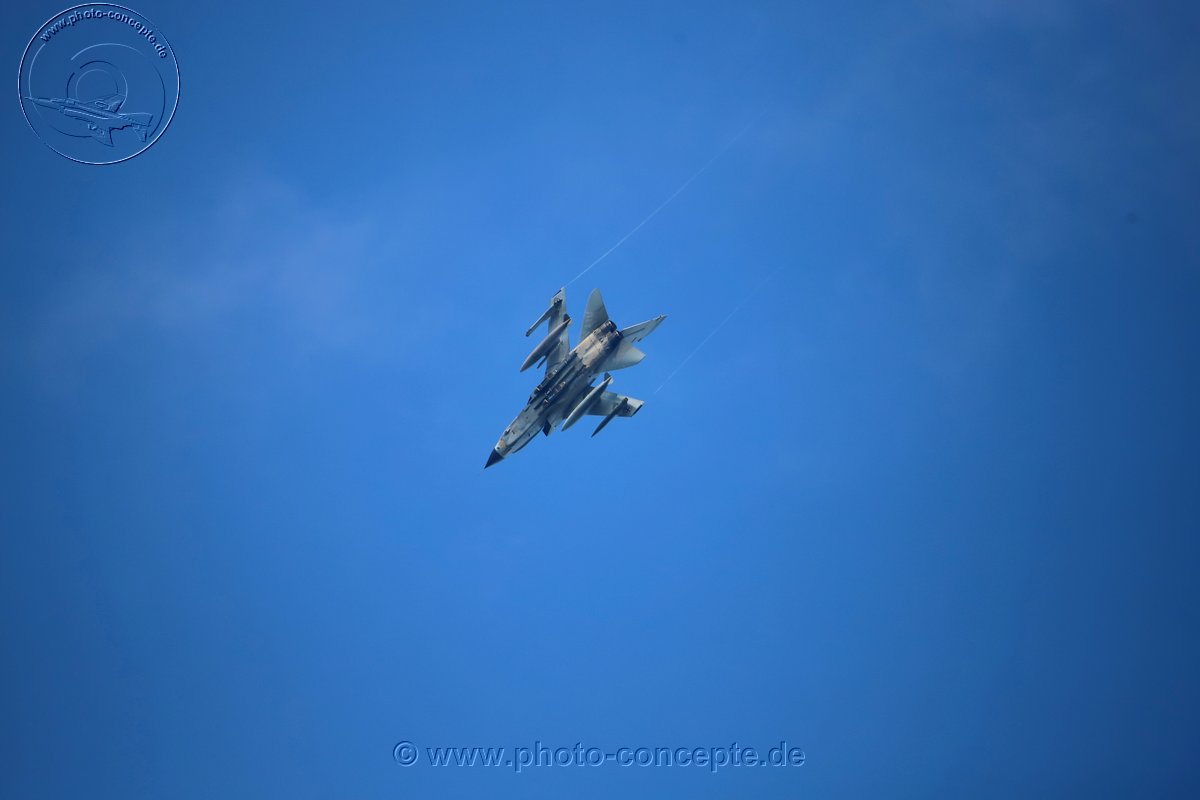Tornado: (482, 284, 670, 471)
